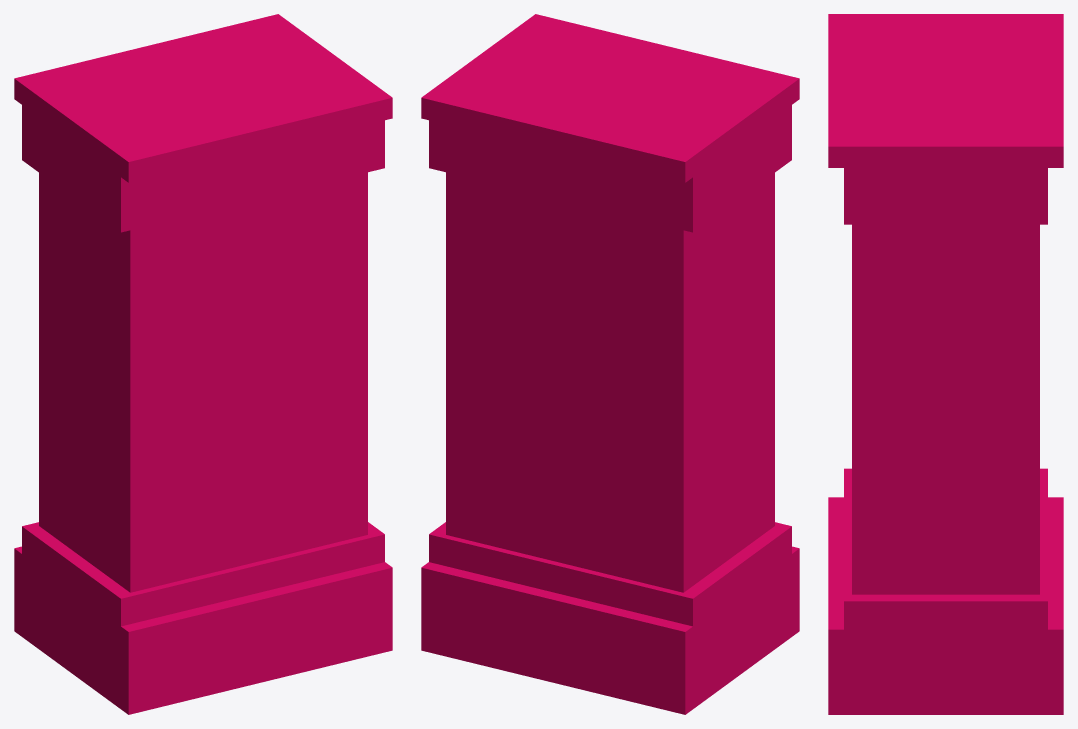
File: SM_handrail_side.fbx
The picture shows the model from 3 angles, left to right: view 1: azimuth 30°, elevation 25°; view 2: azimuth 150°, elevation 25°; view 3: azimuth 270°, elevation 25°; orthographic projection. The views are drawn at different scales.
Visible parts, largest first — view 1: handrail_side1_low.001; view 2: handrail_side1_low.001; view 3: handrail_side1_low.001.
Part boxes in pixels (left/top/right/bottom): handrail_side1_low.001: left=14, top=14, right=392, bottom=714; handrail_side1_low.001: left=421, top=14, right=799, bottom=714; handrail_side1_low.001: left=828, top=14, right=1063, bottom=714.
Bounding box in the file's own units: 40 × 80 × 30.
